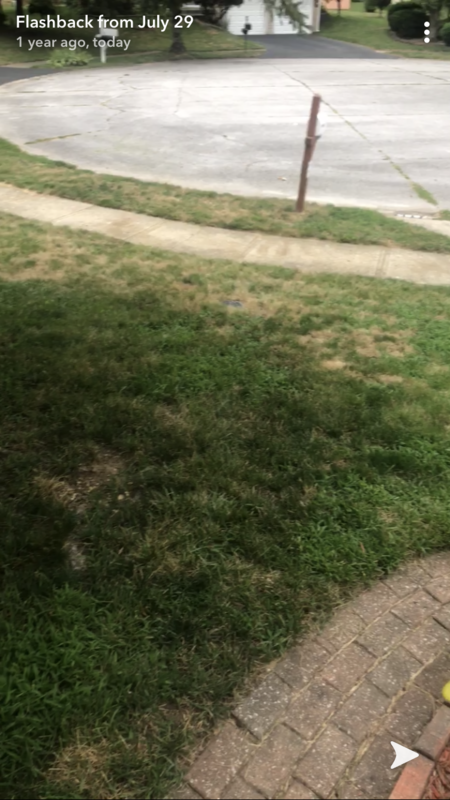crabgrass: (5, 579, 119, 773)
